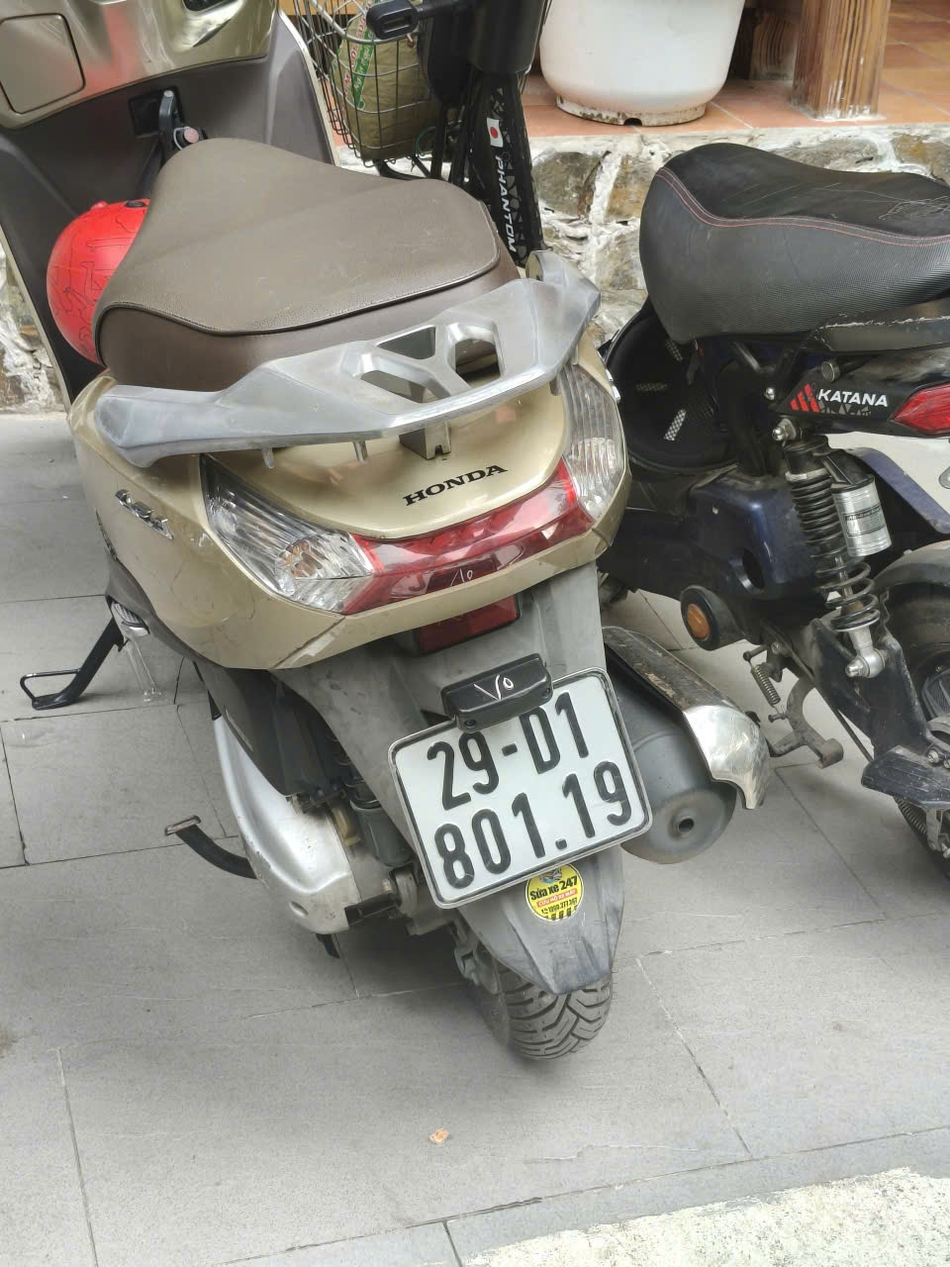plate: (784, 379, 895, 421)
